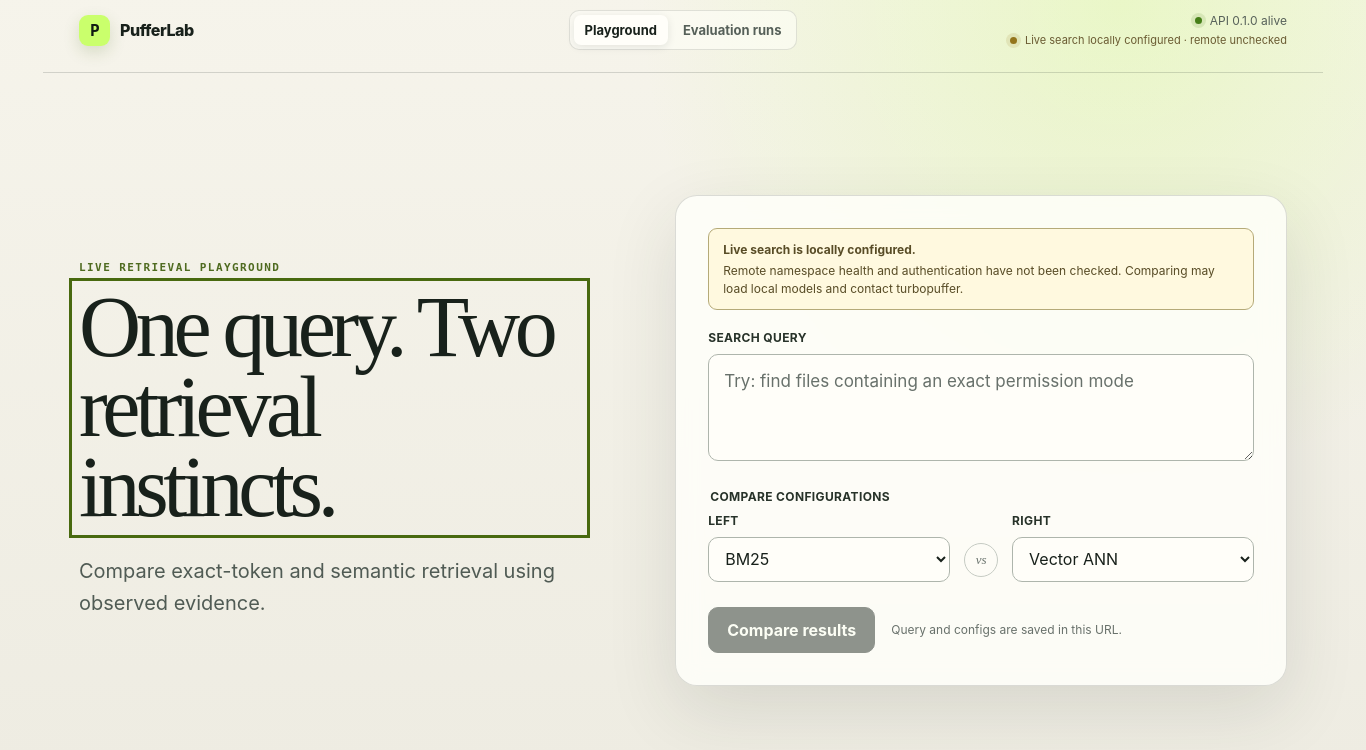
Scenario: App playground › parses a direct API error safely and retries the last comparison
Type "permission mode" into the text box labelled "Search query" at (981, 407), box [708, 354, 1254, 461]
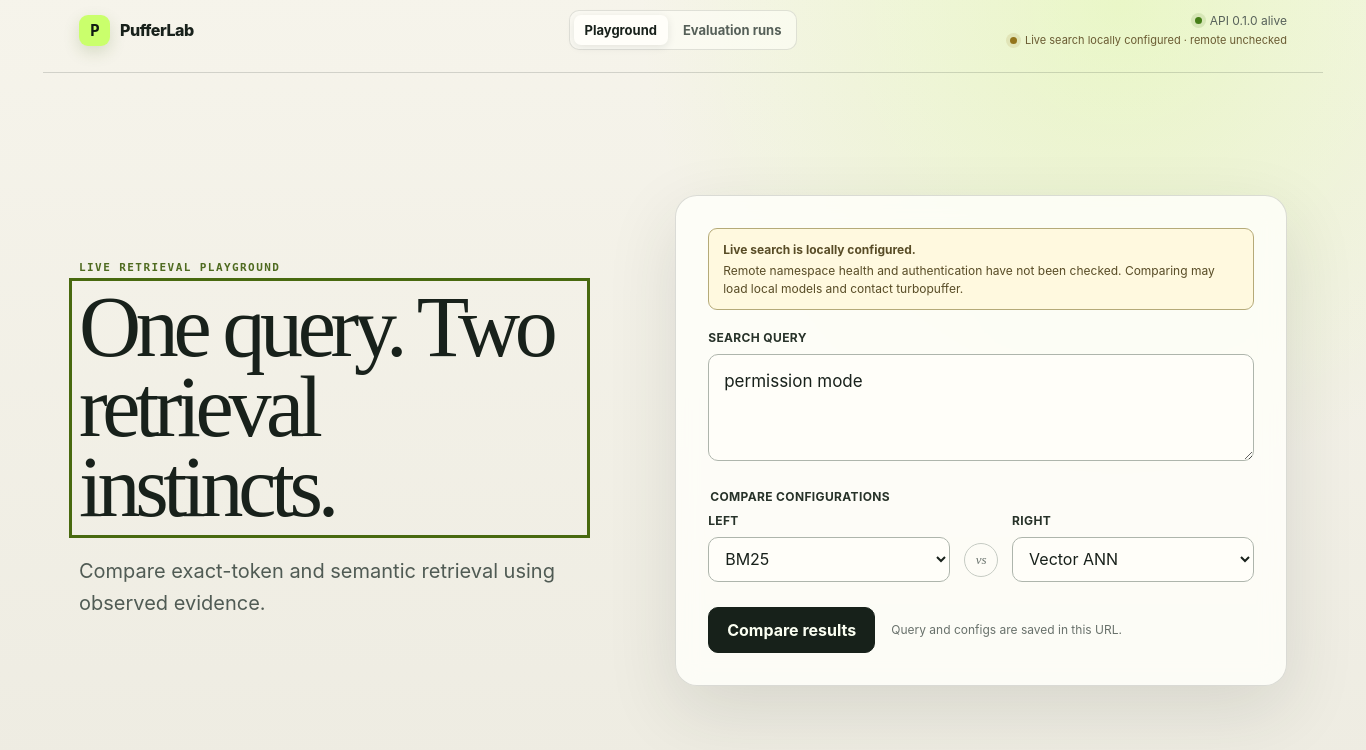
Click the button "Compare results" at (792, 630), box [708, 607, 875, 653]
(page scrolled)
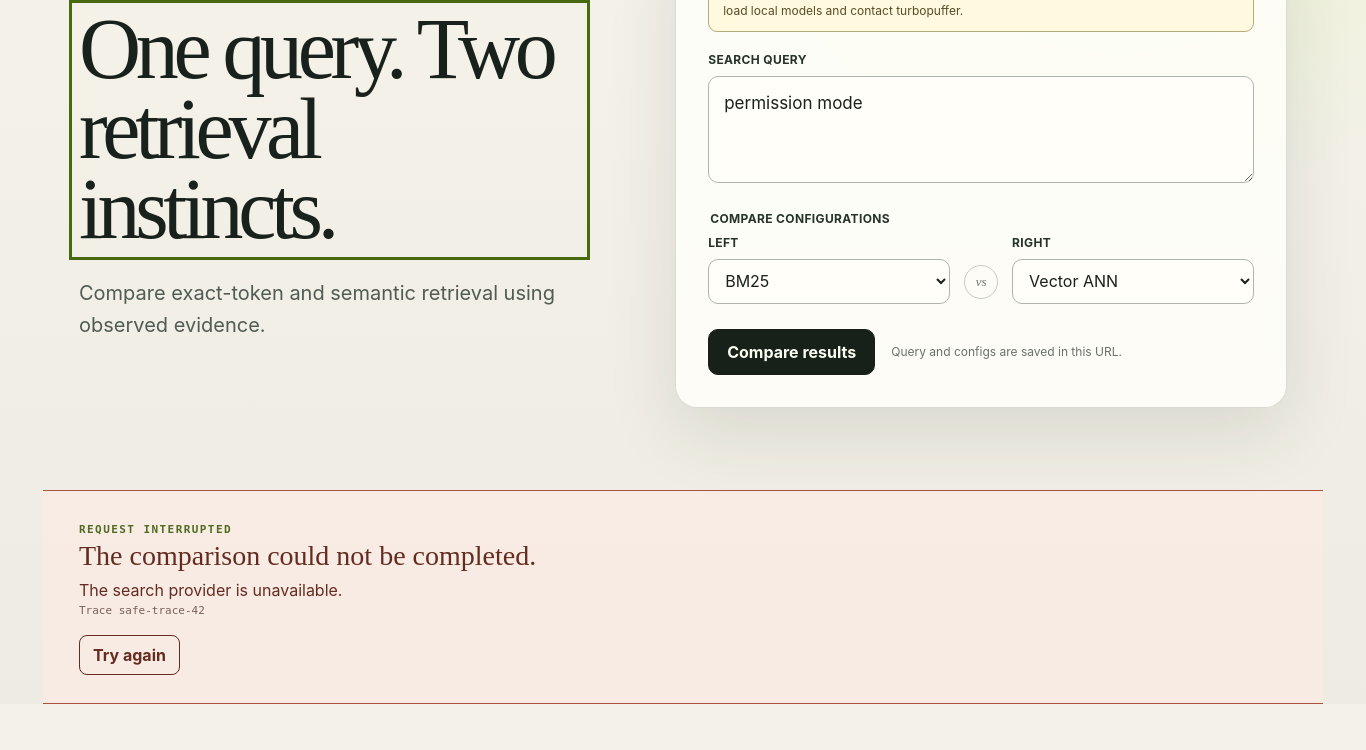
Result: the text "The search provider is unavailable." is shown at [79, 580, 342, 600]
Result: the text "Trace safe-trace-42" is shown at [79, 604, 205, 617]
Click the button "Try again" at (130, 655), box [79, 635, 180, 675]
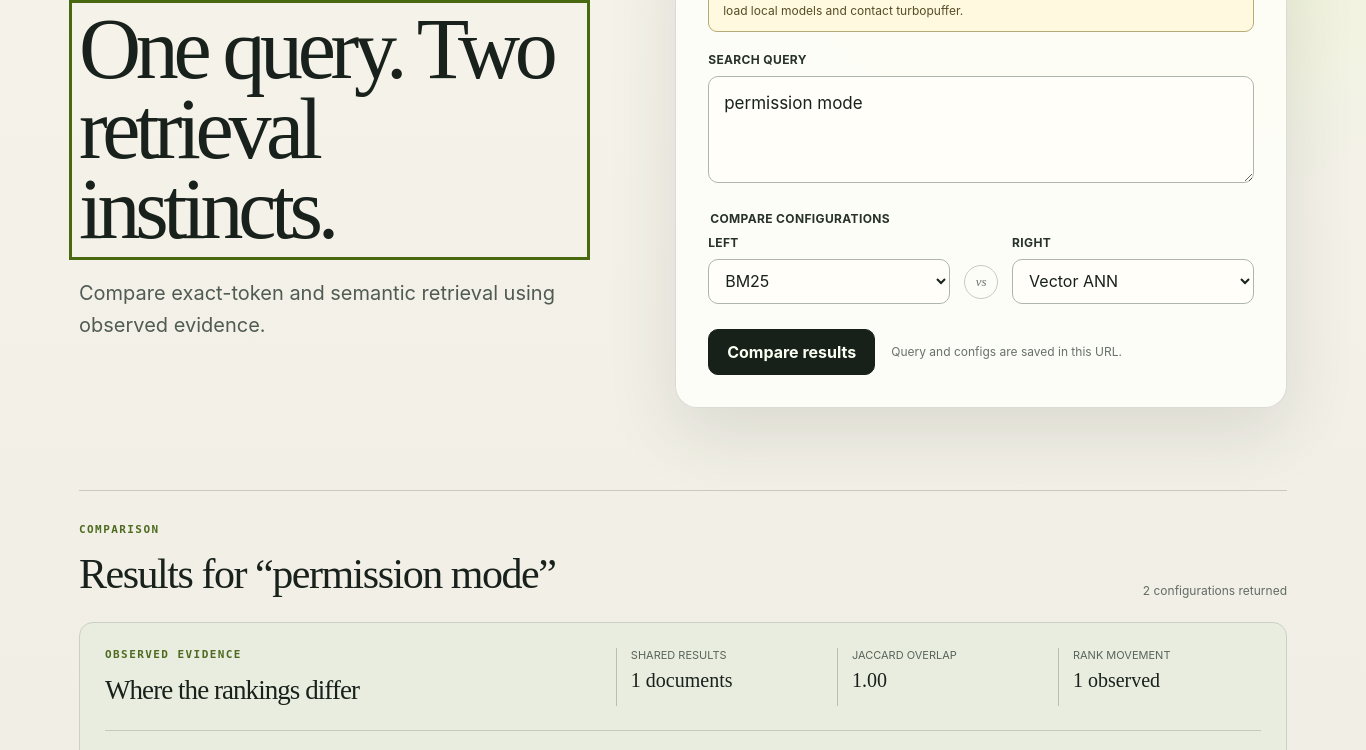
Result: the heading "Results for “permission mode”" is shown at [79, 550, 556, 598]
